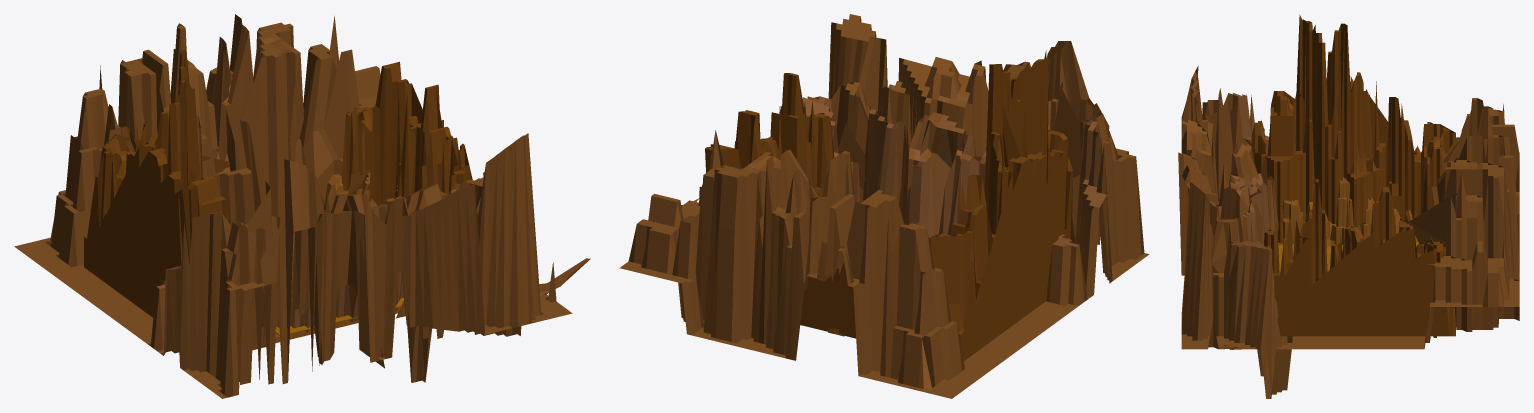
File: Desert.fbx
3 views of the same model, side by side, from view 1: azimuth 30°, elevation 25°; view 2: azimuth 150°, elevation 25°; view 3: azimuth 270°, elevation 25° (orthographic). The views are drawn at different scales.
Parts seen in each view (by area): view 1: Plane.002, Plane.001, Plane; view 2: Plane.002, Plane.001; view 3: Plane.002, Plane.001, Plane.
Part boxes in pixels (x1,y1,x2,y2): Plane.002: (14,14,590,398); Plane.001: (84,49,472,343); Plane: (275,170,404,337); Plane.002: (619,14,1149,398); Plane.001: (699,50,1075,360); Plane.002: (1178,66,1519,398); Plane.001: (1251,14,1455,337); Plane: (1278,177,1418,273).
Size of the model in its own units: 17096 by 13986 by 15638.
